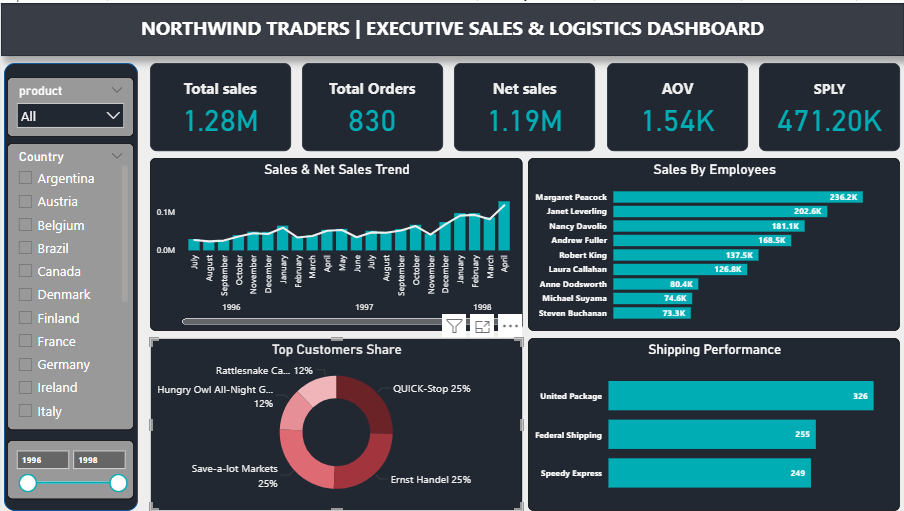

This screenshot's page, from the dashboard's own definition file:
{"tool":"powerbi","page":{"name":"Page 1","canvas":[1280,720],"ordinal":0},"visuals":[{"type":"textbox","box":[0.1,0,1279.8,75.1],"z":0},{"type":"cardVisual","fields":{"Data":["Key Measures.Total sales"]},"box":[211.2,85,199.8,124.7],"z":1000},{"type":"cardVisual","fields":{"Data":["Key Measures.Net sales"]},"box":[642.6,85,200,125],"z":2000},{"type":"cardVisual","fields":{"Data":["Key Measures.Average Order Value"]},"box":[858.5,85,200,125],"z":3000},{"type":"cardVisual","fields":{"Data":["Key Measures.SPLY"]},"box":[1074.3,85,200,125],"z":4000},{"type":"cardVisual","fields":{"Data":["Key Measures.Total Orders"]},"box":[426.9,85,199.8,124.7],"z":5000},{"type":"shape","box":[4.3,85,189.9,635],"z":6000},{"type":"slicer","fields":{"Values":["Calender.Year"]},"box":[8.5,619.4,180,83.6],"z":7000},{"type":"slicer","fields":{"Values":["customers.country"]},"box":[8.5,198.4,180,406.8],"z":8000},{"type":"slicer","fields":{"Values":["products.productName"]},"box":[8.5,104.9,180,85],"z":9000},{"type":"lineClusteredColumnComboChart","title":"Sales & Net Sales Trend","fields":{"Category":["Calender.Date.Variation.Date Hierarchy.Year","Calender.Date.Variation.Date Hierarchy.Month"],"Y":["Key Measures.Total sales"],"Y2":["Key Measures.Net sales"]},"box":[211.2,219.7,528,245],"z":10000},{"type":"donutChart","title":"Top Customers Share","fields":{"Y":["Key Measures.Net sales"],"Category":["customers.companyName"]},"box":[211.7,475.4,528,245.2],"z":10001},{"type":"clusteredBarChart","title":"Sales By Employees","fields":{"Category":["employees.Full Name"],"Y":["Key Measures.Total sales"]},"box":[747.5,220.1,527.5,245.2],"z":10002},{"type":"clusteredBarChart","title":"Shipping Performance","fields":{"Category":["shippers.companyName"],"Y":["Key Measures.Total Orders"]},"box":[747.5,475.4,527.5,245.2],"z":10003}]}

Visuals, with their boxes in screenshot pixels (x1, y1, x2, y2), scaled from the page's 1280x720 canvas onto the 904x511 screenshot:
textbox: [left=0, top=0, right=903, bottom=53]
cardVisual - Key Measures.Total sales: [left=149, top=60, right=290, bottom=149]
cardVisual - Key Measures.Net sales: [left=454, top=60, right=595, bottom=149]
cardVisual - Key Measures.Average Order Value: [left=606, top=60, right=748, bottom=149]
cardVisual - Key Measures.SPLY: [left=759, top=60, right=900, bottom=149]
cardVisual - Key Measures.Total Orders: [left=301, top=60, right=443, bottom=149]
shape: [left=3, top=60, right=137, bottom=510]
slicer - Calender.Year: [left=6, top=440, right=133, bottom=499]
slicer - customers.country: [left=6, top=141, right=133, bottom=430]
slicer - products.productName: [left=6, top=74, right=133, bottom=135]
"Sales & Net Sales Trend" lineClusteredColumnComboChart: [left=149, top=156, right=522, bottom=330]
"Top Customers Share" donutChart: [left=150, top=337, right=522, bottom=510]
"Sales By Employees" clusteredBarChart: [left=528, top=156, right=900, bottom=330]
"Shipping Performance" clusteredBarChart: [left=528, top=337, right=900, bottom=510]
